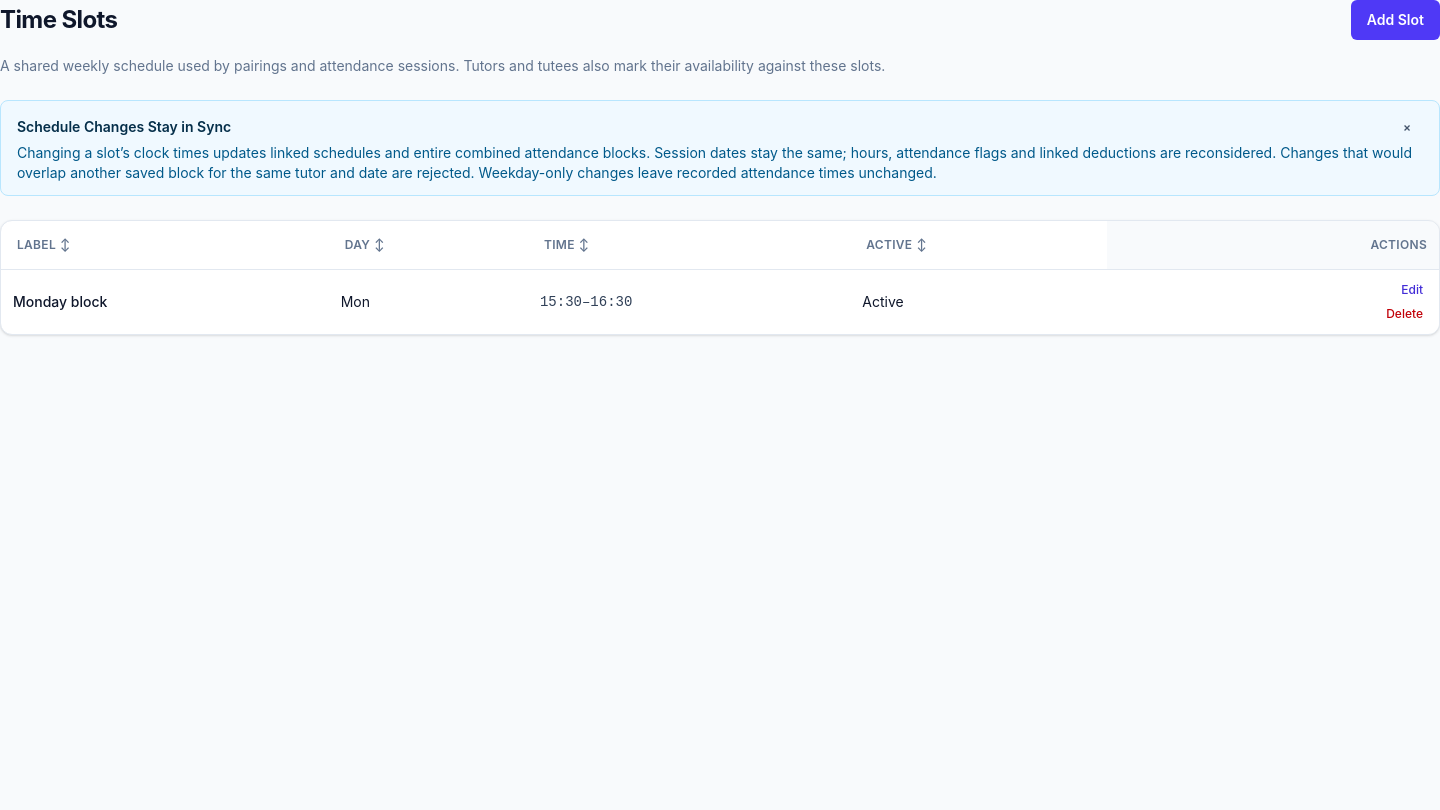
Test: keeps a slot editor draft and in-dialog read retry when its list refresh fails
The image size is (1440, 810).
Click the button "Edit": click(1405, 290) x1=1383 y1=278 x2=1427 y2=302
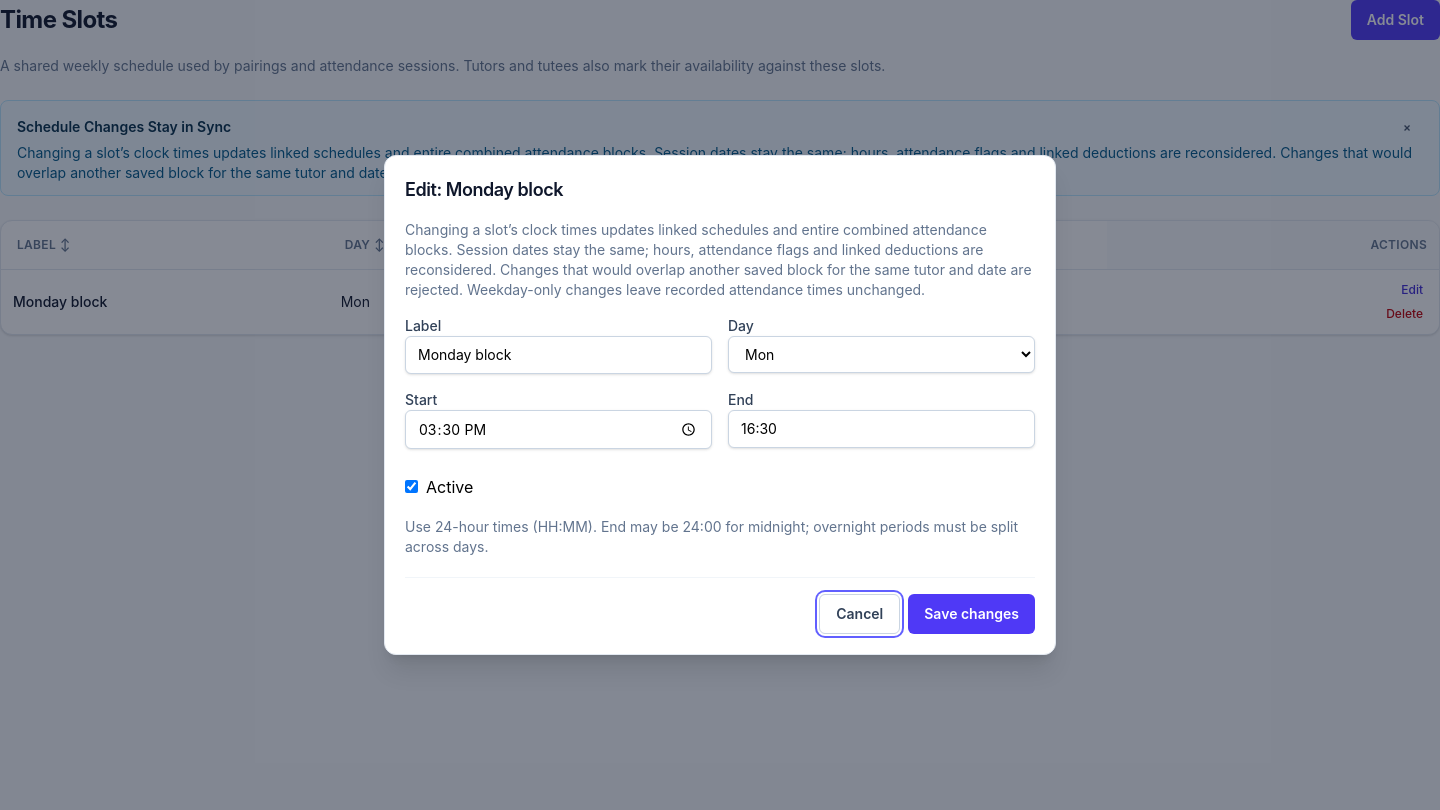
Replace the text in the field labelled "Label" with "Unsaved slot name": (558, 355) x1=405 y1=336 x2=712 y2=374
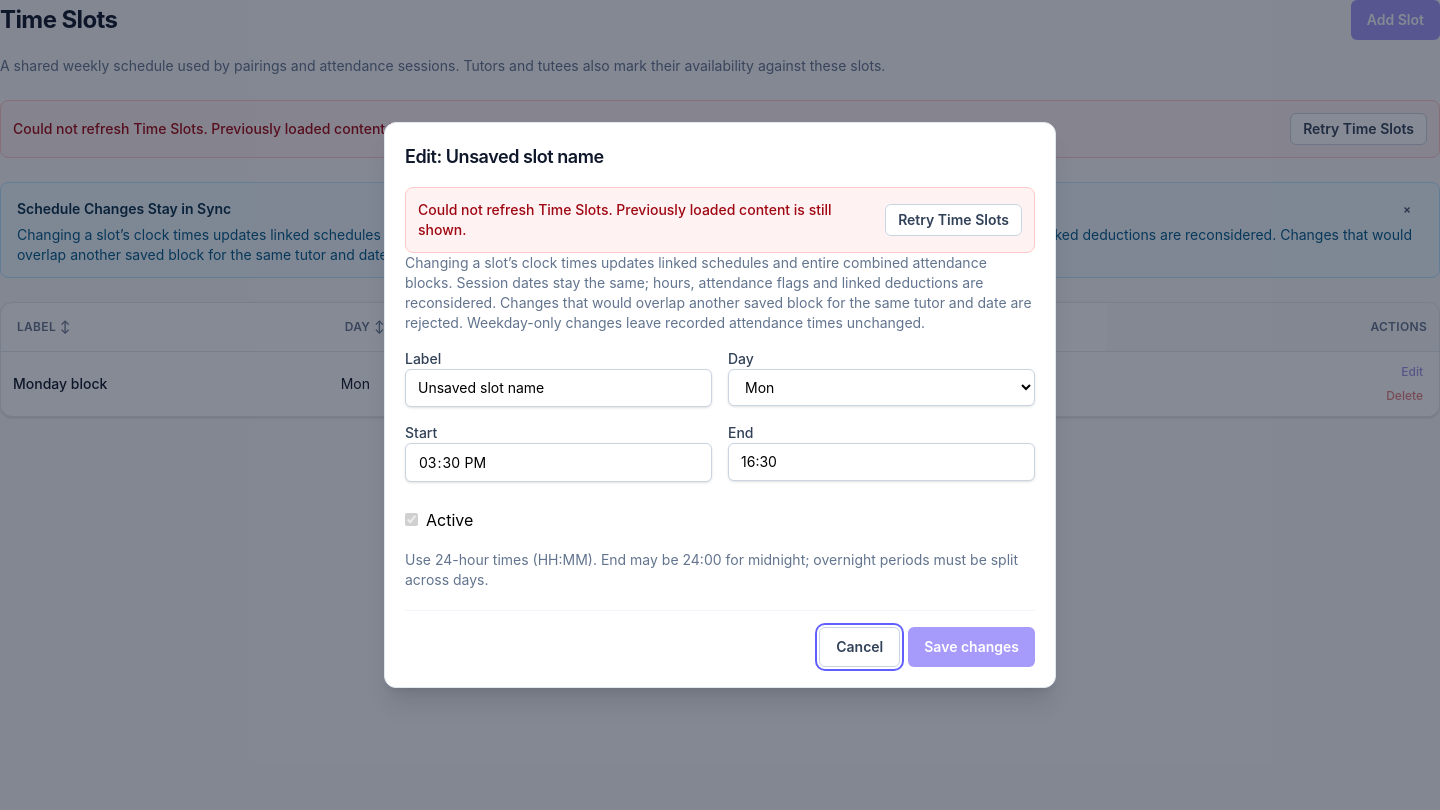
Expected: the button "Save changes" is disabled, x1=908 y1=627 x2=1035 y2=667
Click the button "Retry Time Slots": click(954, 220) x1=885 y1=204 x2=1022 y2=236
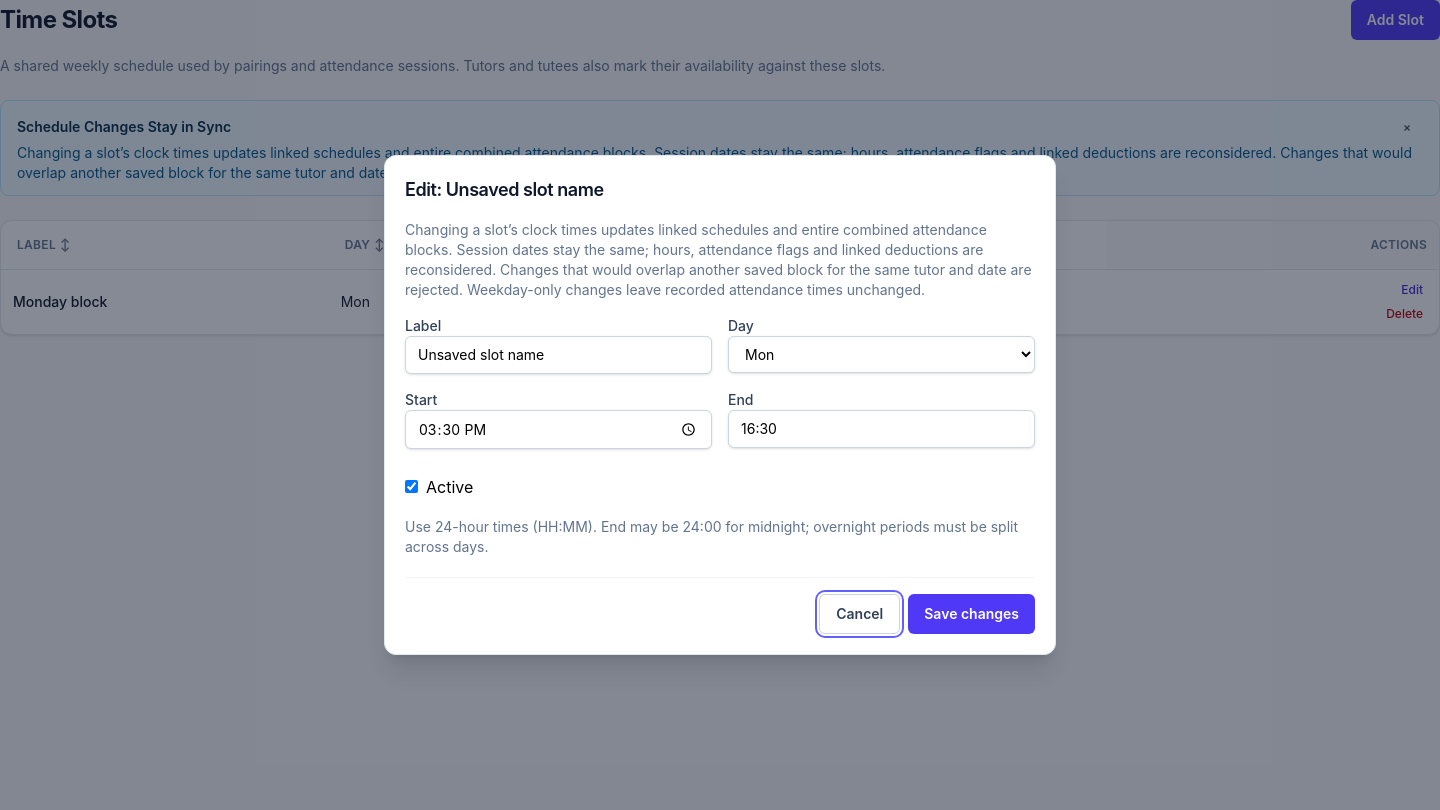
Expected: the button "Save changes" is enabled, x1=908 y1=594 x2=1035 y2=634
